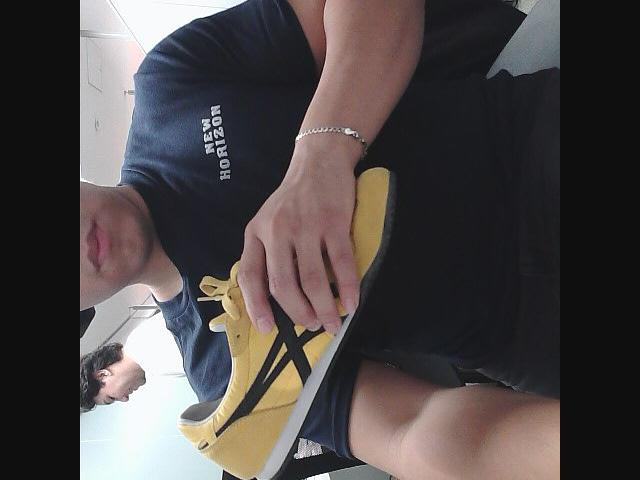Shoes: (173, 161, 401, 480)
